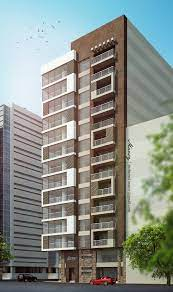high_rise_building: (37, 13, 127, 278)
